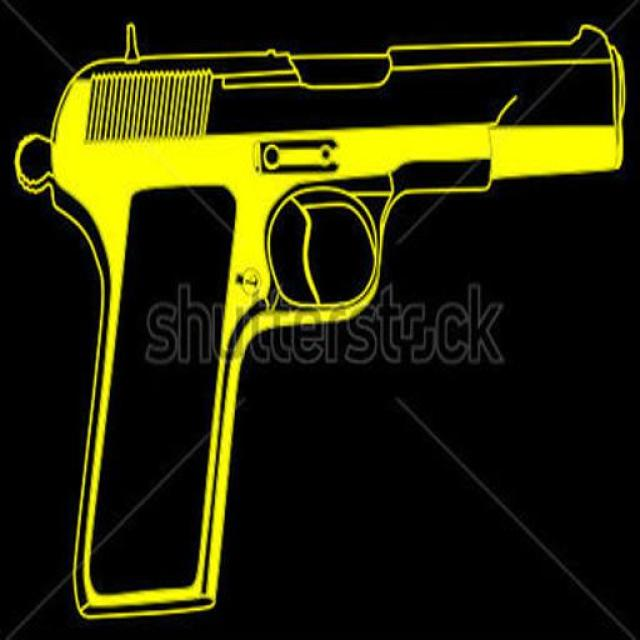pistol: (16, 9, 626, 620)
